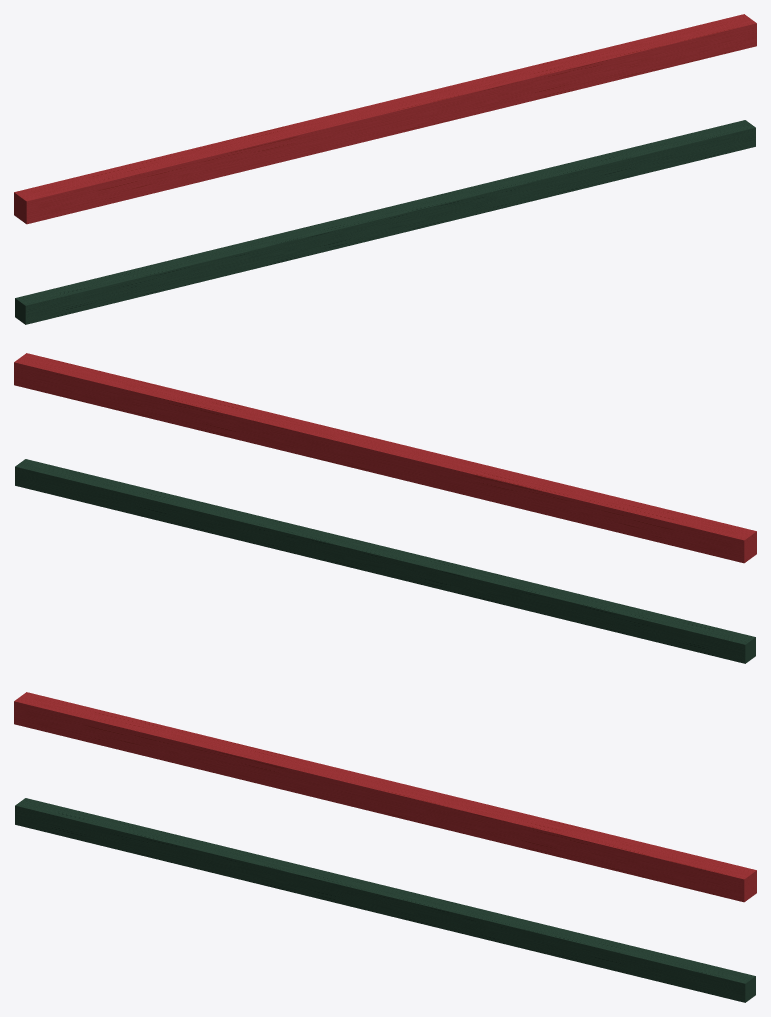
Rendered from RailSection4m.fbx.
The picture shows the model from 3 angles, top to bottom: view 1: azimuth 30°, elevation 25°; view 2: azimuth 150°, elevation 25°; view 3: azimuth 330°, elevation 25°; orthographic projection.
Visible parts, largest first — view 1: RailSection4m; view 2: RailSection4m; view 3: RailSection4m.
Part boxes in pixels (box(x1,y1,x2,y2)): RailSection4m: box(14, 14, 756, 324); RailSection4m: box(14, 353, 756, 663); RailSection4m: box(14, 692, 756, 1002).
Size of the model in its own units: 400 by 65 by 12.
